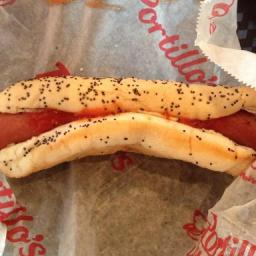hotdog: (168, 109, 256, 148), (0, 112, 64, 150), (68, 106, 84, 124)
